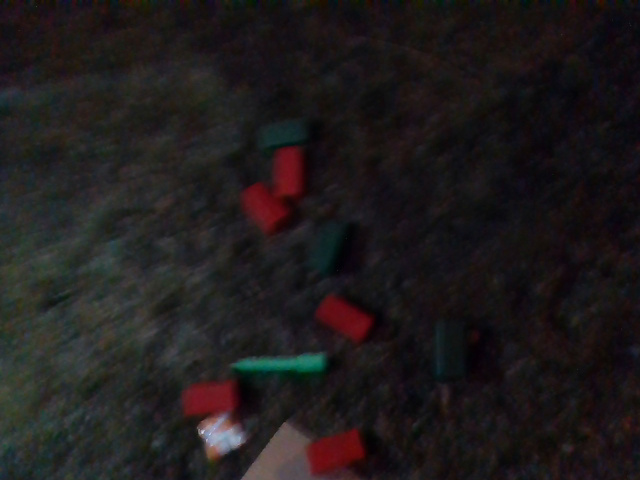Probe: (223, 349, 338, 376)
